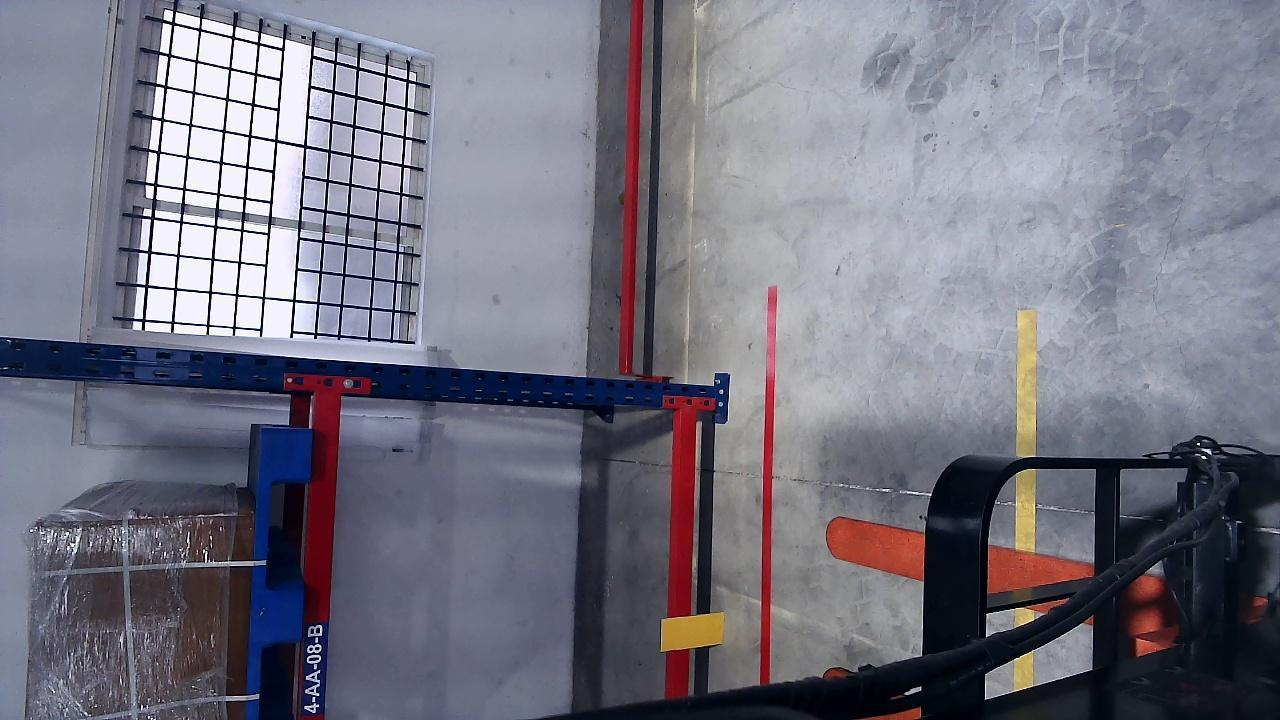red_line: (763, 285, 775, 683)
yellow_line: (1014, 309, 1039, 693)
